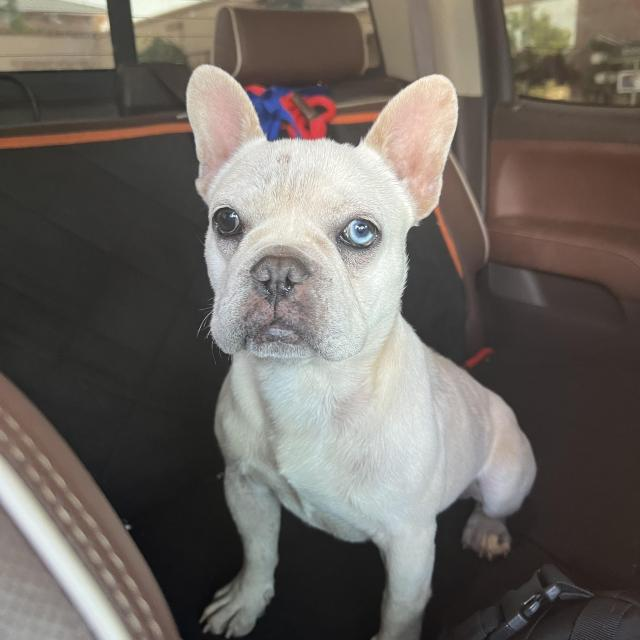french_bulldog_dog: (174, 58, 465, 372)
